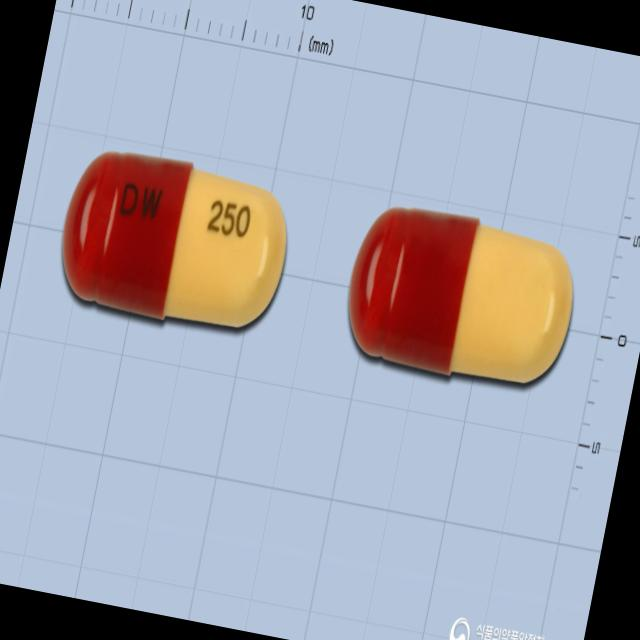Gomcillin Cap: (48, 142, 300, 344), (334, 202, 586, 404)
